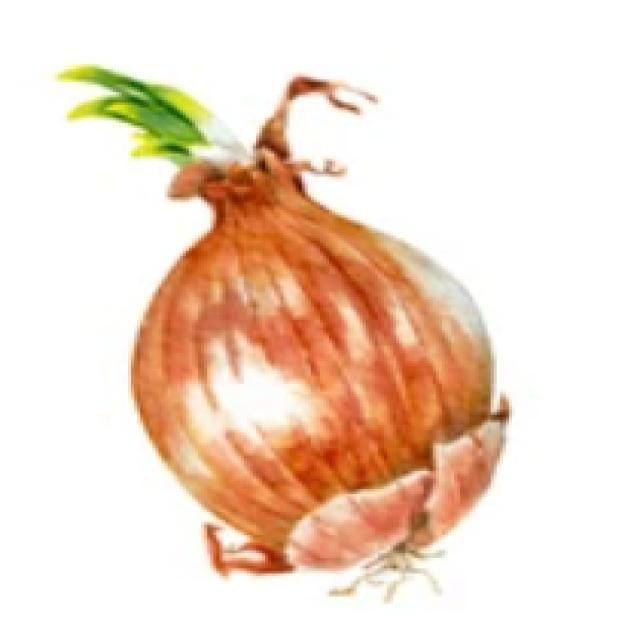sprouting: (42, 66, 232, 192)
